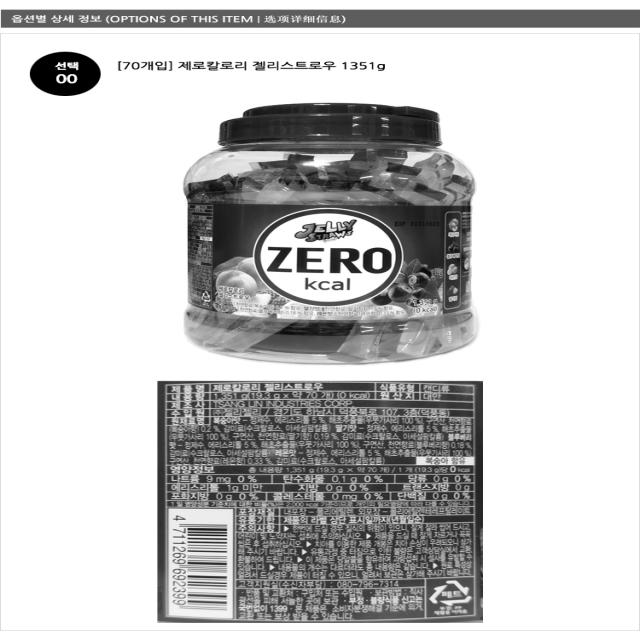Nutrition Label: (166, 464, 487, 510)
